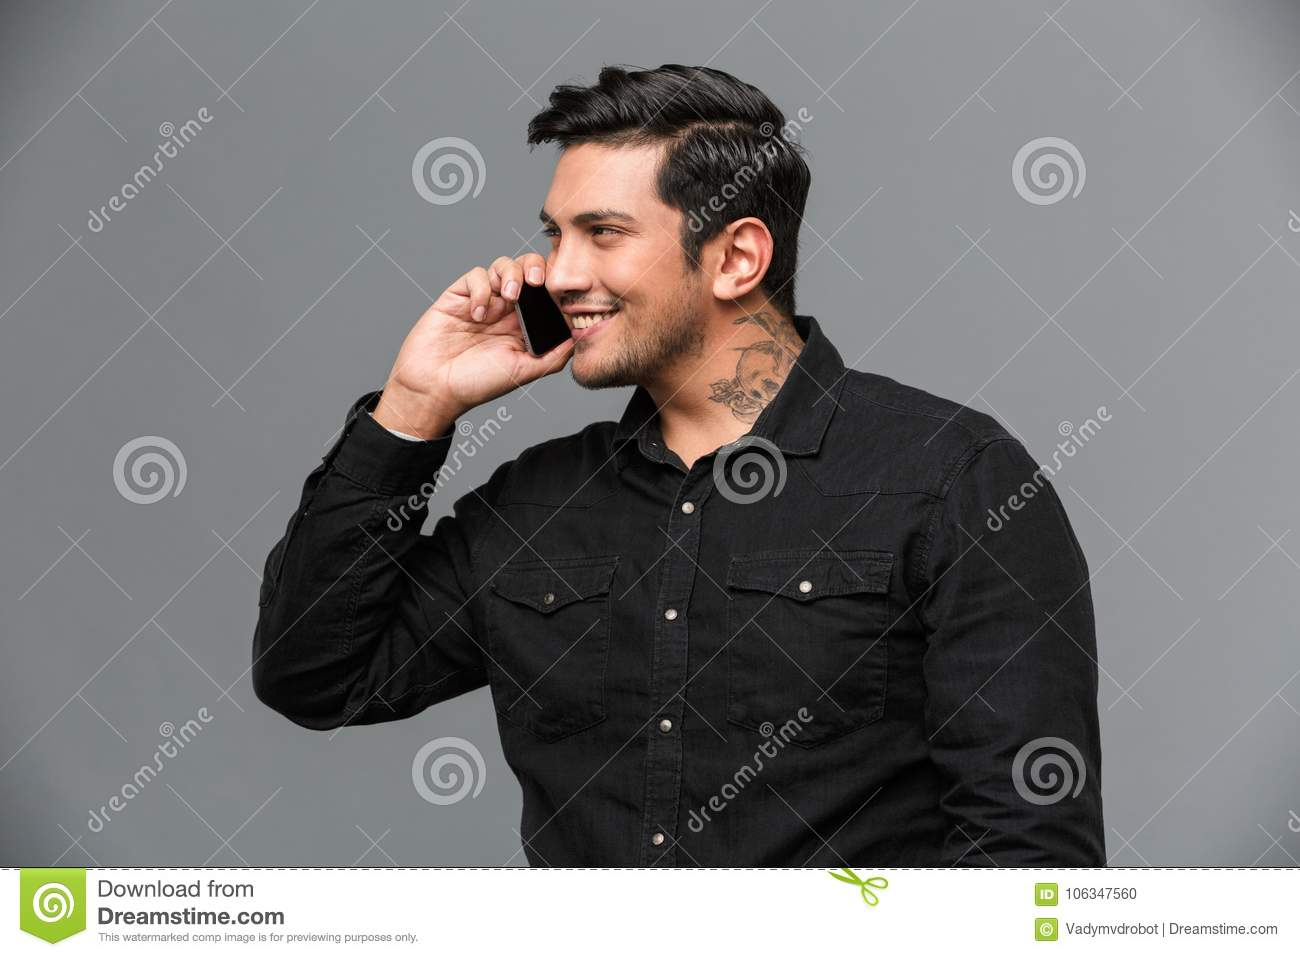phone: (510, 270, 569, 366)
talk: (395, 188, 671, 416)
